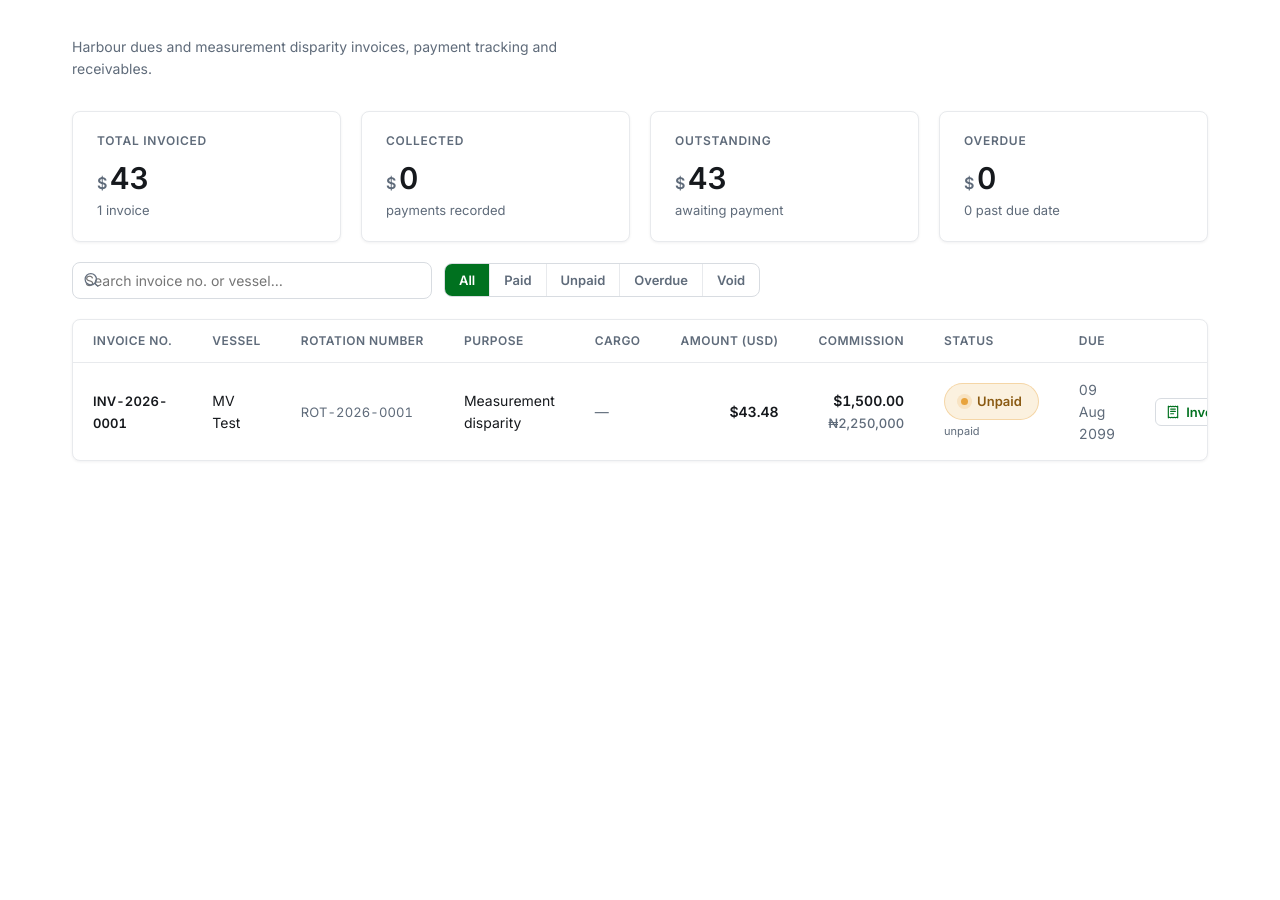
Invoices payment workflow › distinguishes identical cargo descriptions using the frozen invoice scope
Click the row "INV-2026-0001".
click(130, 401)  # box [73,363,1262,460]
(page scrolled)
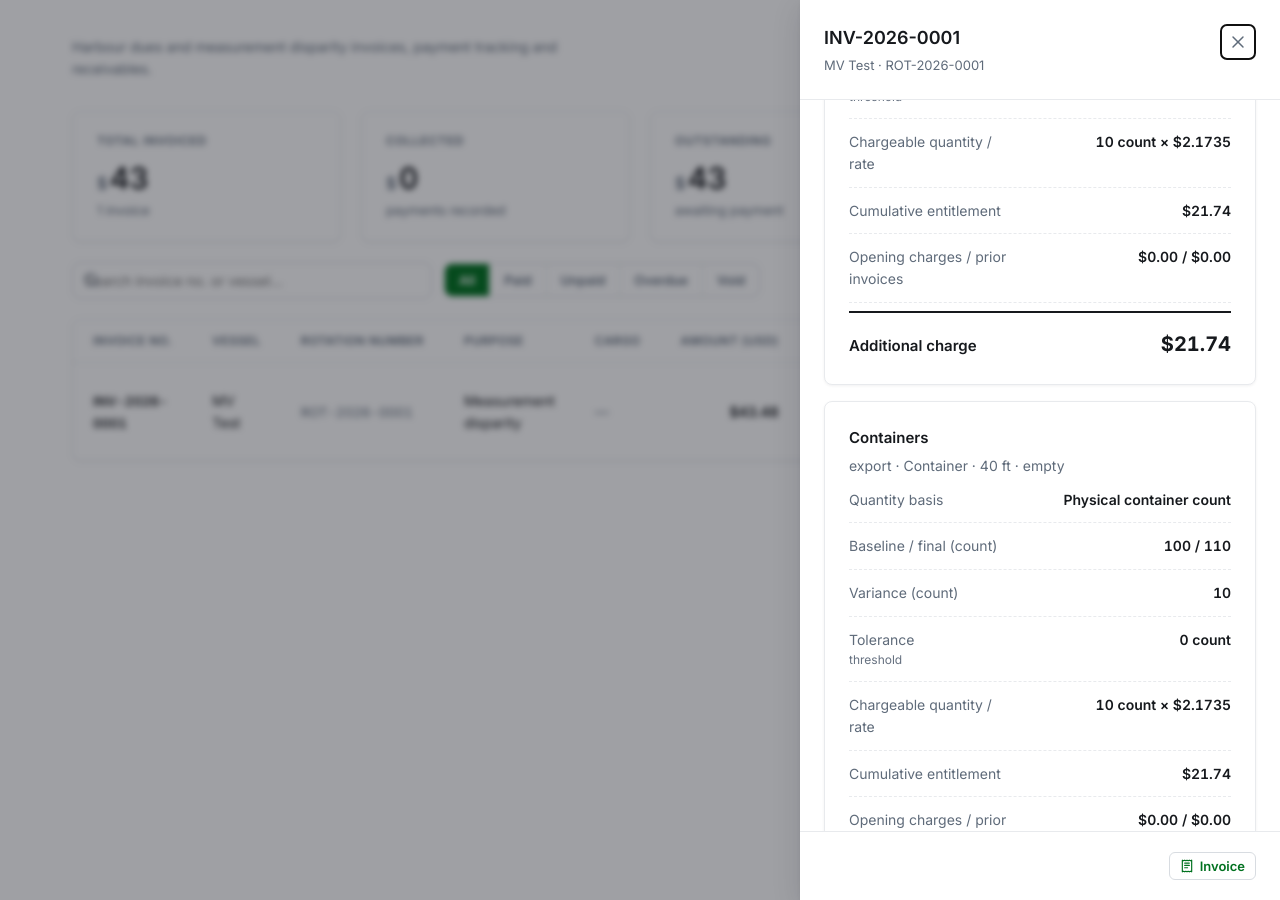
expect the text "Containers" is shown 2 times: met
expect the text "export · Container · 40 ft · empty" is shown: met, box [849,457,1065,474]
expect the text "Physical container count" is shown 2 times: met
